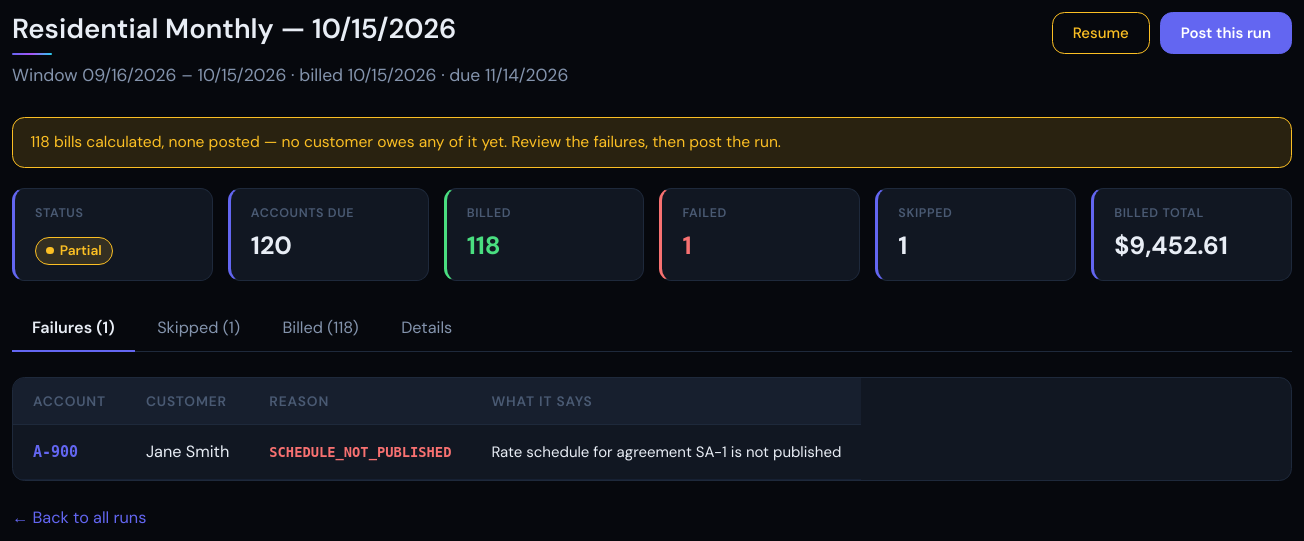
Billing run detail — exceptions › keeps skipped accounts out of the failures and in their own tab
Expected: the text "SCHEDULE_NOT_PUBLISHED" is shown, [269, 444, 451, 460]
Expected: the text "NO_READ_IN_WINDOW" is not shown
Click the button "Skipped (1)": {"x": 199, "y": 329} [137, 306, 260, 352]
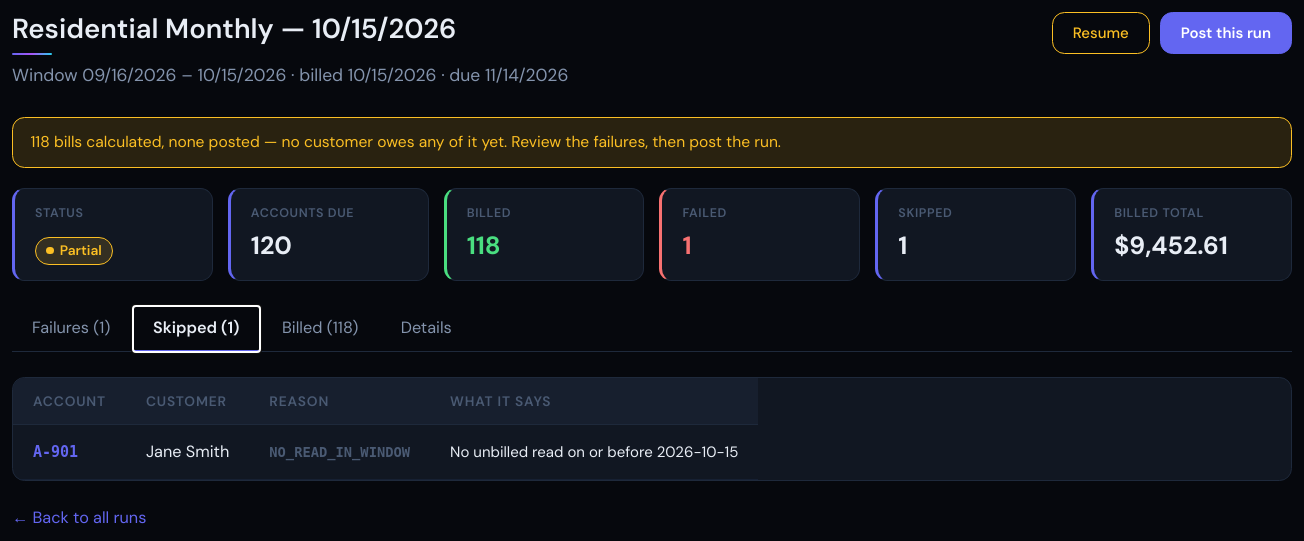
Result: the text "NO_READ_IN_WINDOW" is shown at [269, 444, 410, 460]
Result: the text "SCHEDULE_NOT_PUBLISHED" is gone
